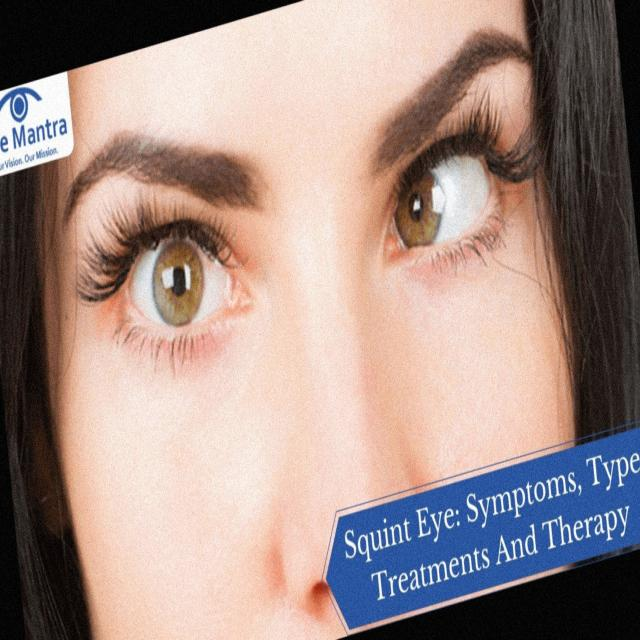Healthy-Eye: (87, 192, 253, 378)
Squint: (376, 139, 520, 289)
